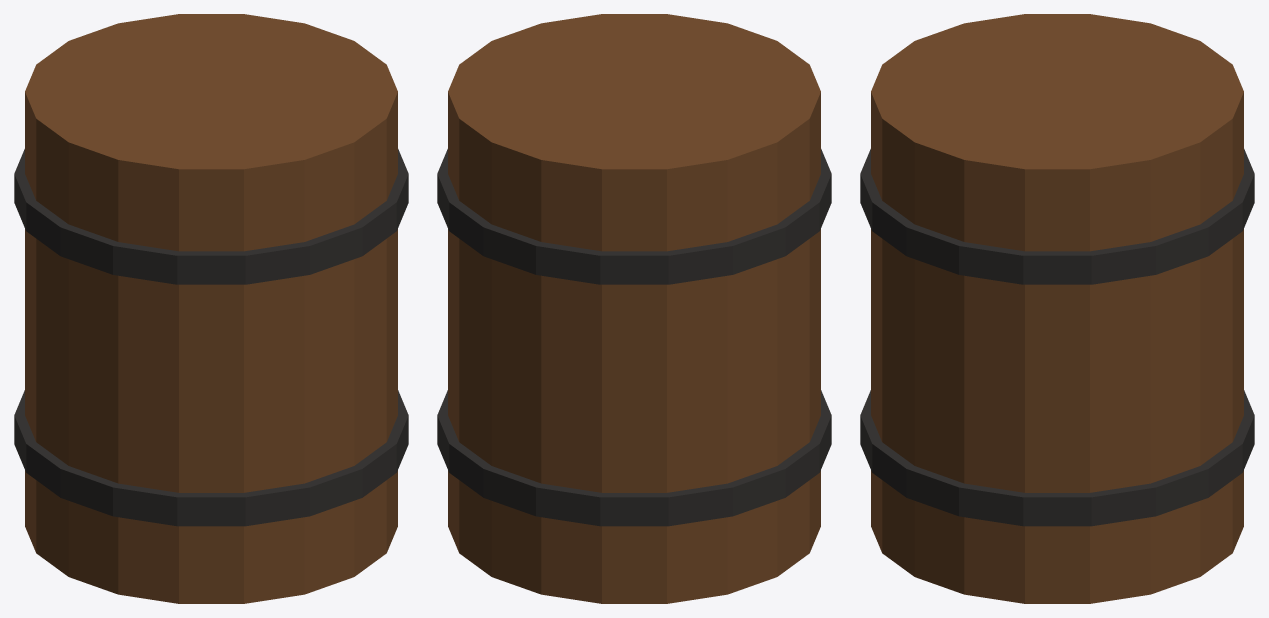
Rendered from barrel.6a621d91.glb.
The picture shows the model from 3 angles, left to right: view 1: azimuth 30°, elevation 25°; view 2: azimuth 150°, elevation 25°; view 3: azimuth 270°, elevation 25°; orthographic projection.
Visible parts, largest first — view 1: body; view 2: body; view 3: body.
Boxes of the visible parts, x1=… form: body: x1=14, y1=14, x2=408, y2=603; body: x1=437, y1=14, x2=831, y2=603; body: x1=860, y1=14, x2=1254, y2=603.
Bounding box in the file's own units: 0.7288 × 0.9 × 0.74.
